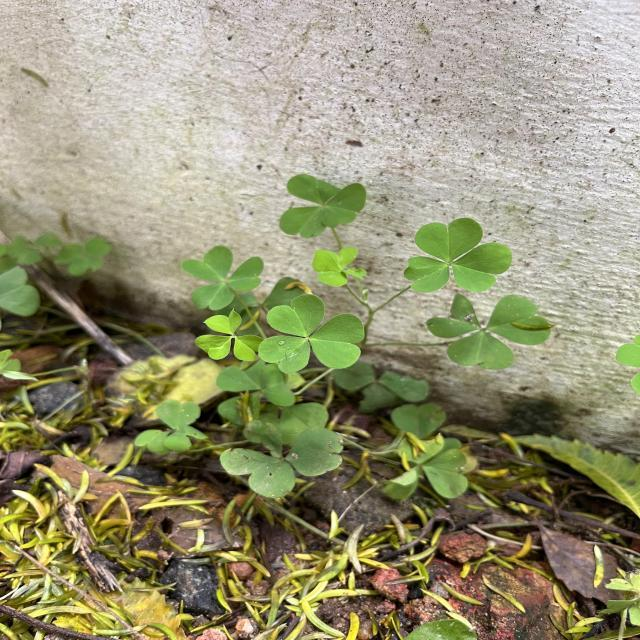Oxalis corniculata: (218, 418, 346, 499), (426, 293, 552, 370), (258, 293, 366, 375), (402, 216, 513, 294), (278, 172, 368, 240), (180, 244, 265, 311), (193, 307, 264, 362), (312, 246, 368, 288)
